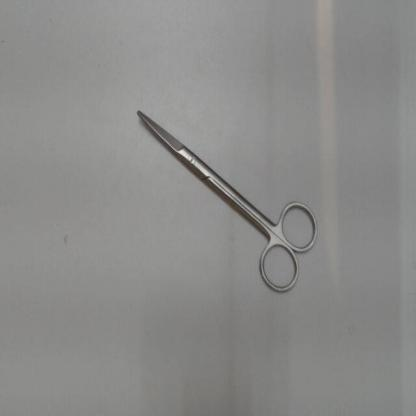Curved Mayo Scissors: (131, 102, 324, 300)
